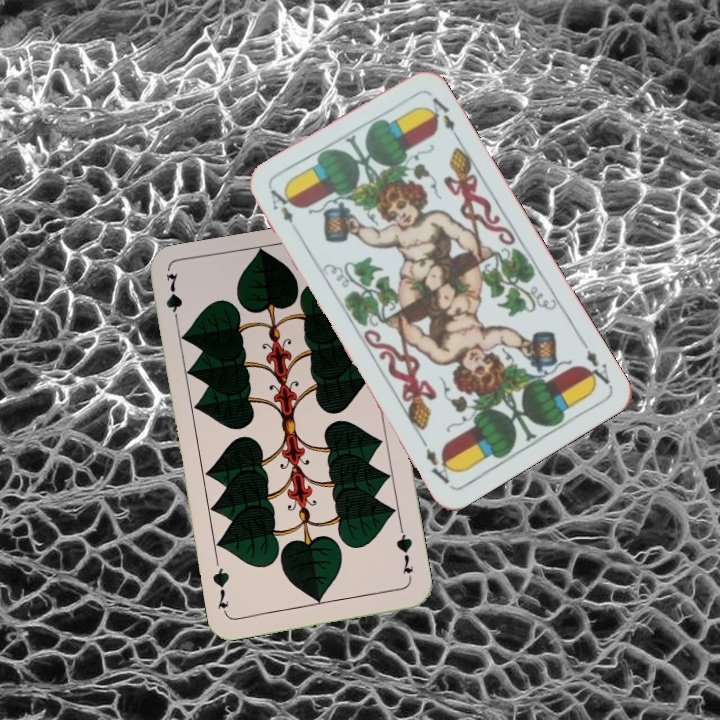EA: (576, 335, 613, 391), (266, 185, 296, 227)
G7: (392, 525, 416, 584), (162, 269, 185, 329)
